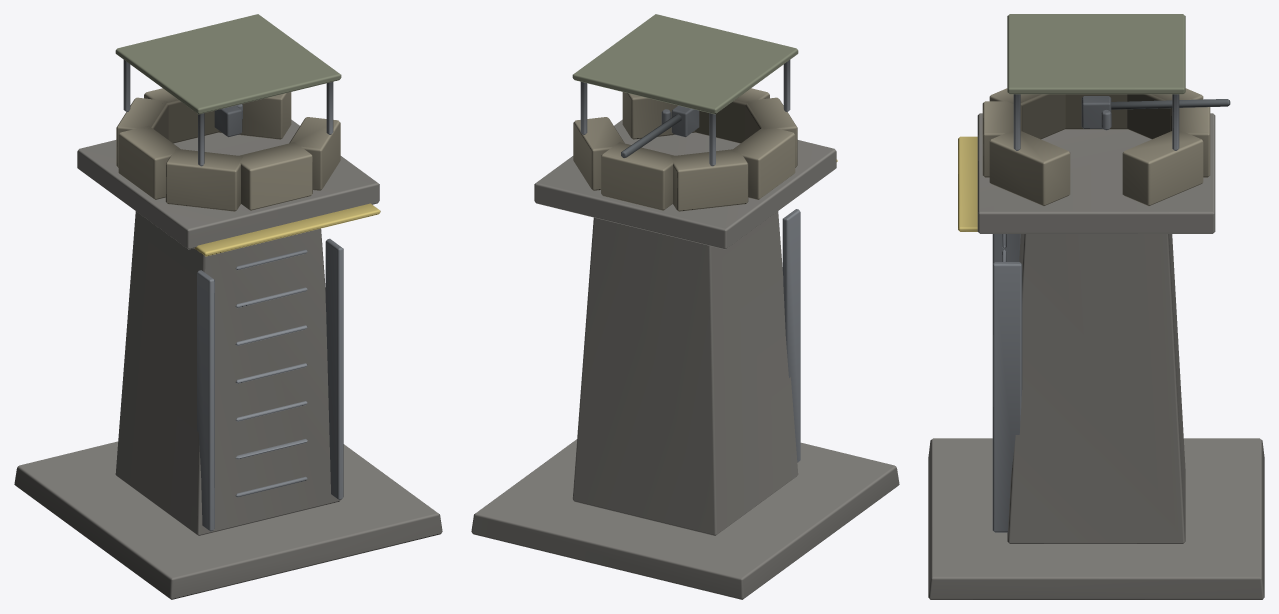
The model's file is mg_tower.glb.
3 views of the same model, side by side, from view 1: azimuth 30°, elevation 25°; view 2: azimuth 150°, elevation 25°; view 3: azimuth 270°, elevation 25° (orthographic). The views are drawn at different scales.
Visible parts, largest first — view 1: Body, Turret; view 2: Body, Turret; view 3: Body, Turret.
Part boxes in pixels (box(x1,y1,x2,y2)): Body: box(14, 119, 442, 599); Turret: box(115, 14, 341, 211); Body: box(471, 119, 899, 599); Turret: box(572, 14, 798, 211); Body: box(928, 113, 1264, 599); Turret: box(982, 14, 1230, 205).
Bounding box in the file's own units: 3.39 × 5.34 × 3.39.
